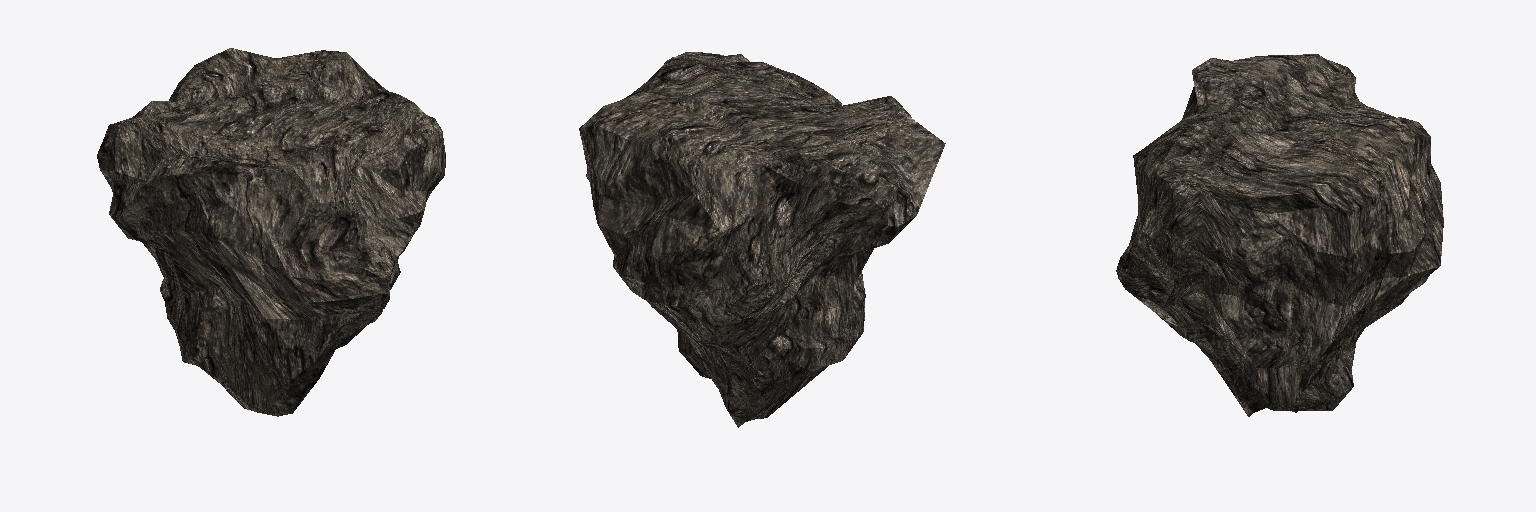
3 views of the same model, side by side, from view 1: azimuth 30°, elevation 25°; view 2: azimuth 150°, elevation 25°; view 3: azimuth 270°, elevation 25° (orthographic).
Parts seen in each view (by area): view 1: Sphere01; view 2: Sphere01; view 3: Sphere01.
Part boxes in pixels (x1,y1,x2,y2): Sphere01: (97, 48, 445, 416); Sphere01: (579, 52, 945, 427); Sphere01: (1116, 54, 1443, 416).
Bounding box in the file's own units: 582 × 590 × 563.
1 materials, 1 textured.